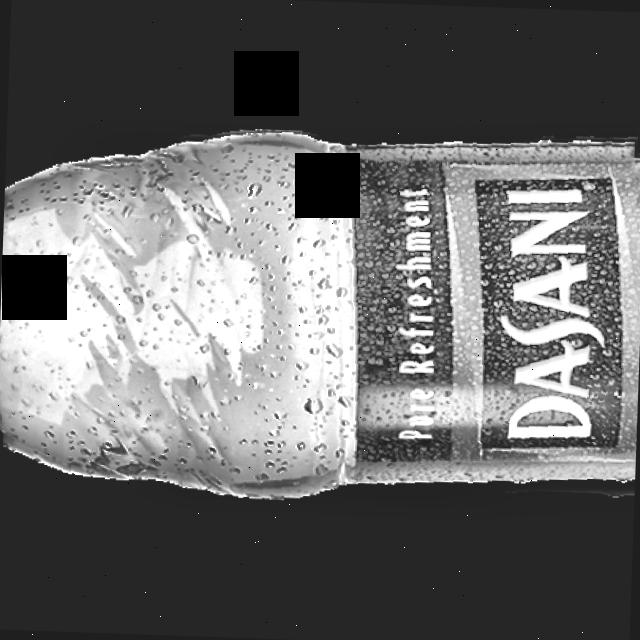bottle: (0, 127, 639, 498)
